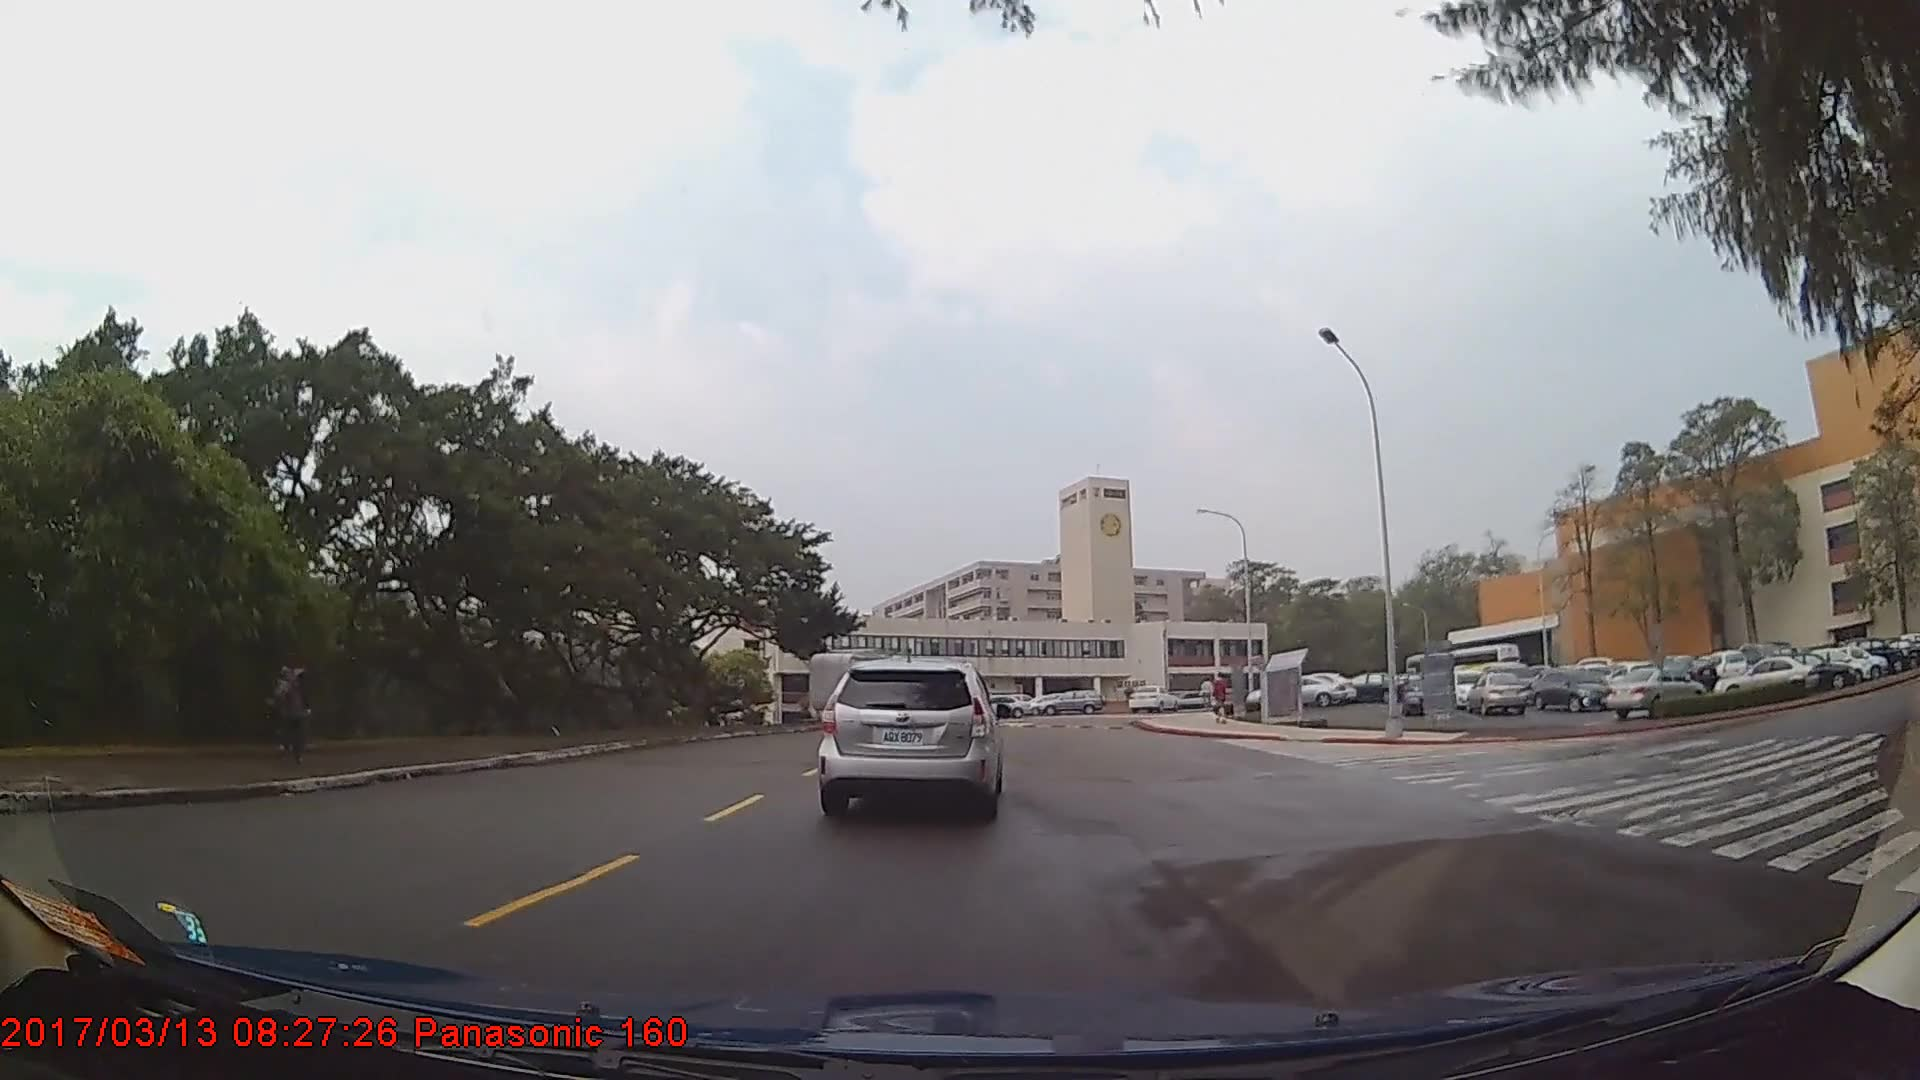pedestrian: (259, 648, 310, 764), (1211, 672, 1232, 726)
vehicle: (820, 656, 998, 818), (1712, 654, 1817, 704), (1608, 665, 1702, 720), (1759, 649, 1855, 693), (1534, 666, 1615, 713), (1246, 674, 1342, 710), (1467, 671, 1529, 718), (1338, 671, 1406, 704), (1037, 689, 1105, 717), (1398, 677, 1441, 716), (975, 694, 1033, 719), (1126, 684, 1174, 715)
